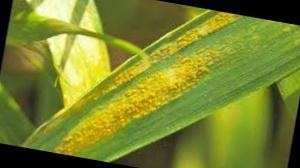Wheat: (117, 47, 221, 115), (52, 95, 141, 155)
